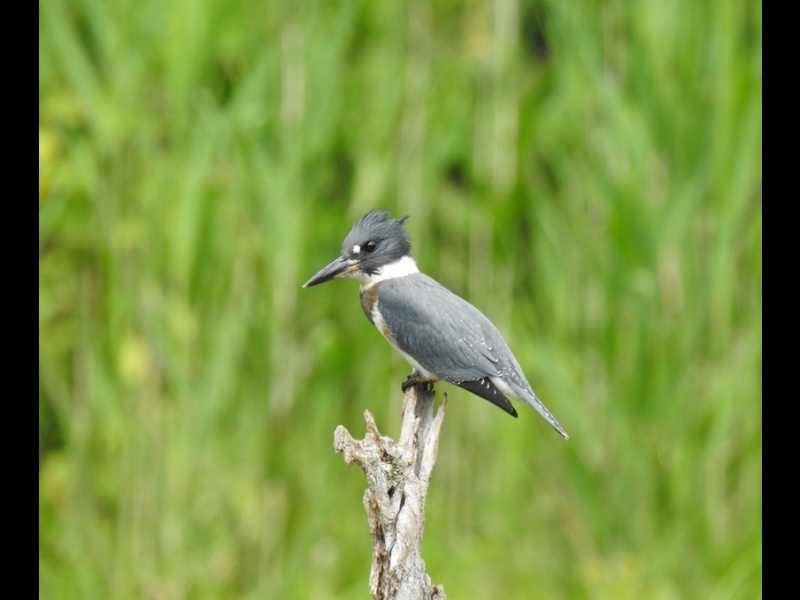kingfisher: (295, 205, 572, 444)
